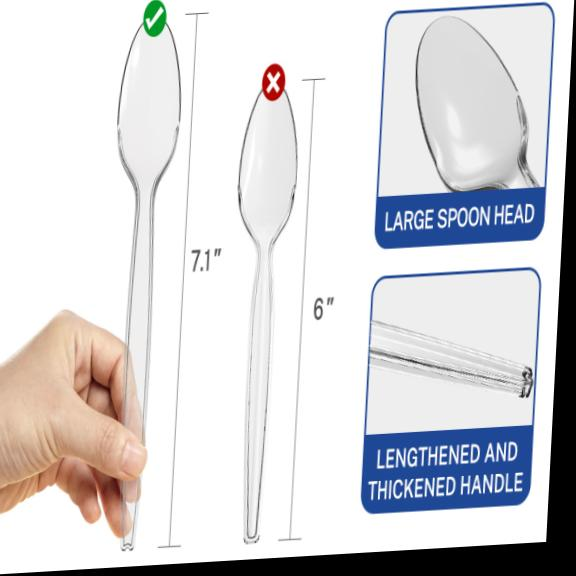Plastik: (218, 81, 305, 547), (238, 92, 297, 543), (118, 25, 180, 444), (416, 17, 538, 191), (369, 321, 533, 398)
